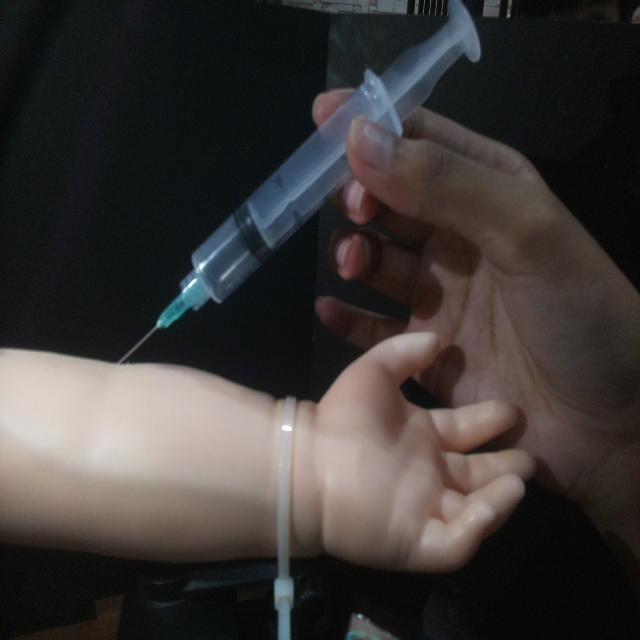30deg: (112, 1, 484, 366)
